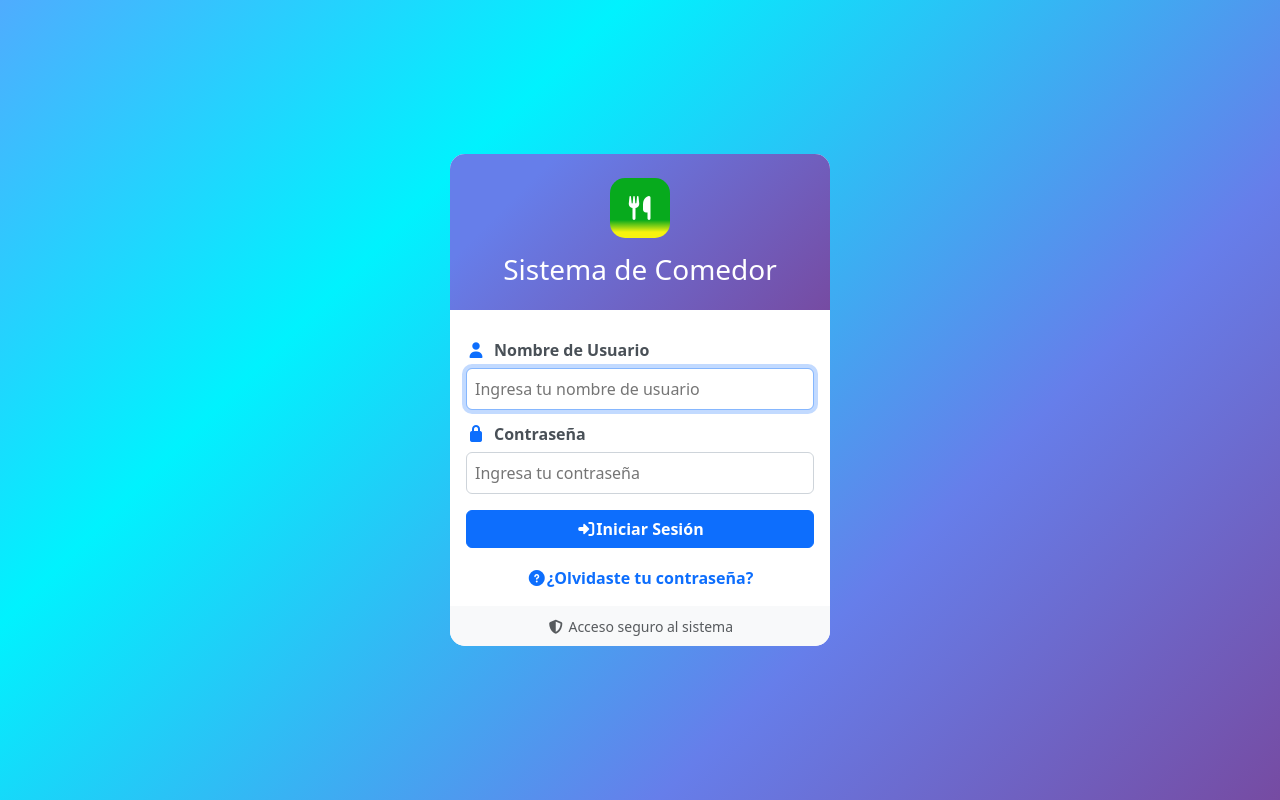
Test case: Login Page › Prueba 6.4: Debería mostrar error cuando la contraseña está vacía
Type "testuser" into the field labelled "Nombre de Usuario" at x=640, y=389, box [466, 368, 814, 410]
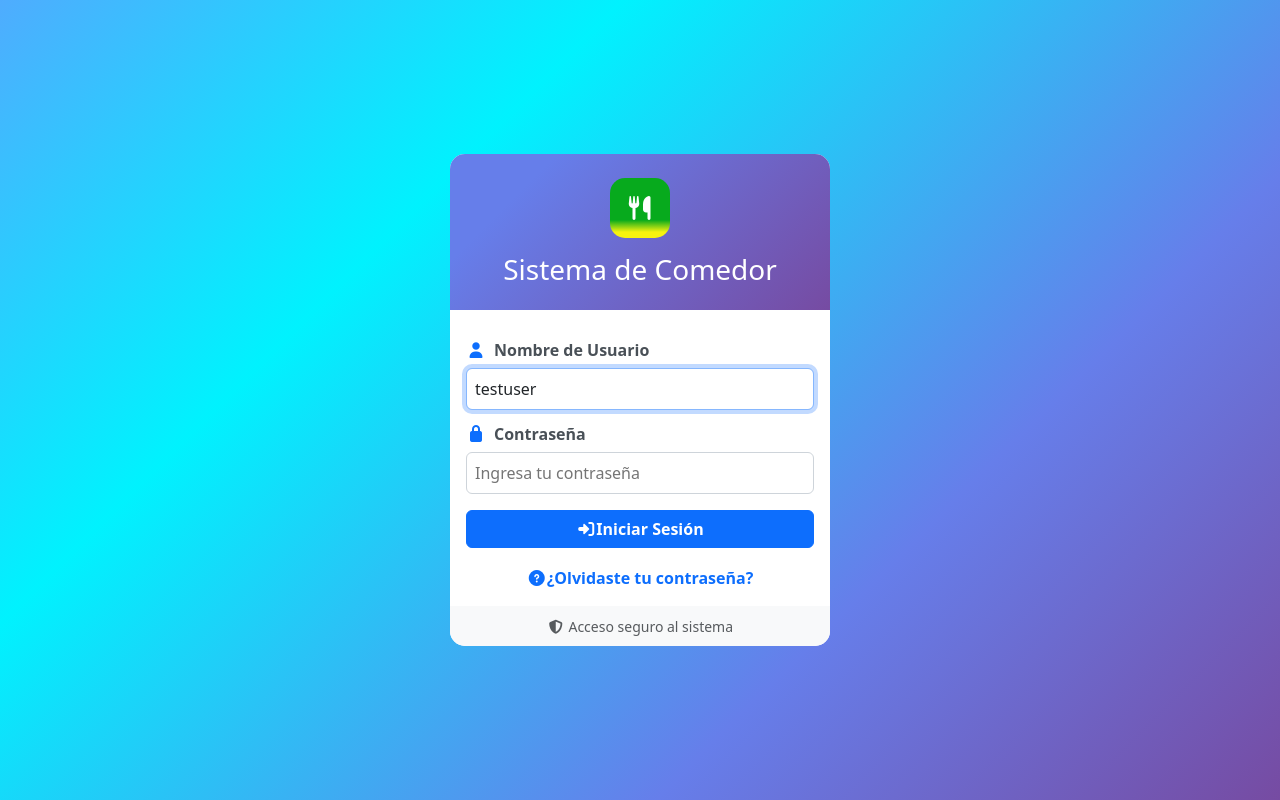
Click the button "Iniciar Sesión" at x=640, y=529, box [466, 510, 814, 548]
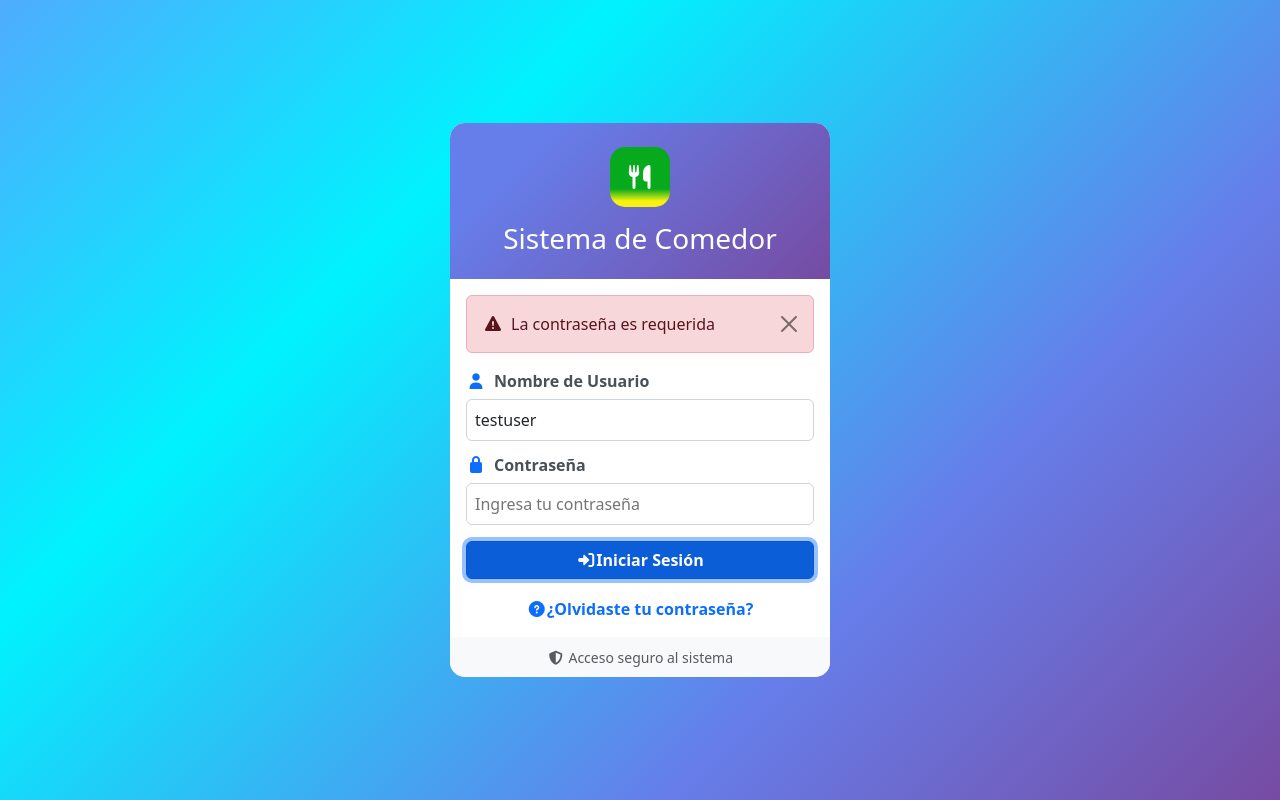
expect the text "La contraseña es requerida" is shown: met, box [466, 295, 814, 353]
